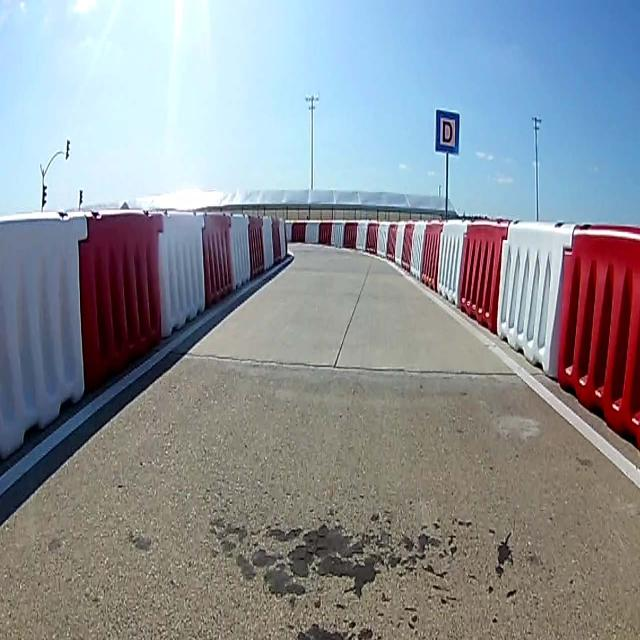durak: (435, 108, 459, 156)
